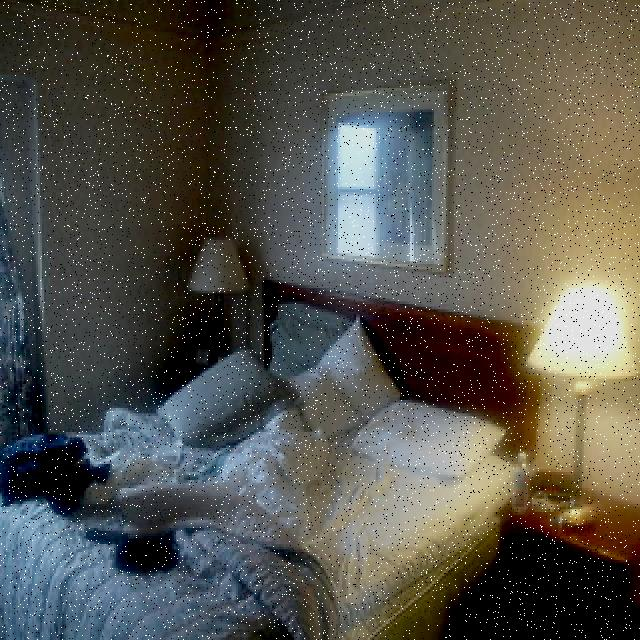bed: (0, 299, 554, 640)
